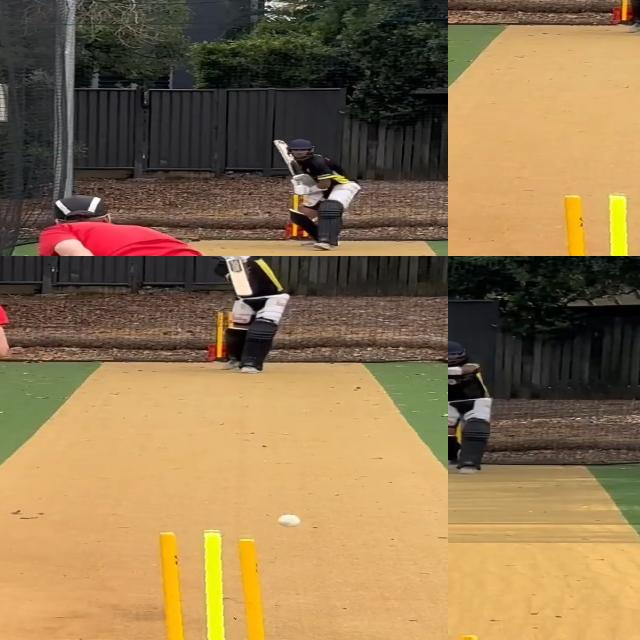Cricket ball: (275, 512, 304, 530)
Stumps: (132, 528, 274, 640), (544, 190, 640, 256)
